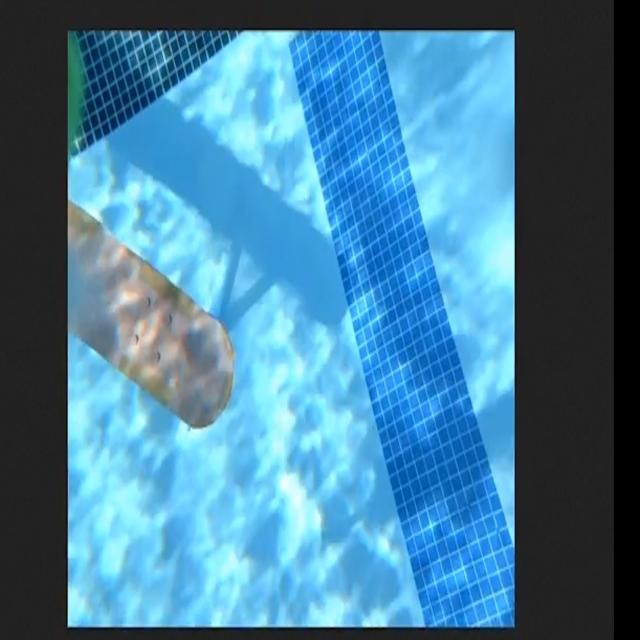Path: (68, 196, 235, 429)
